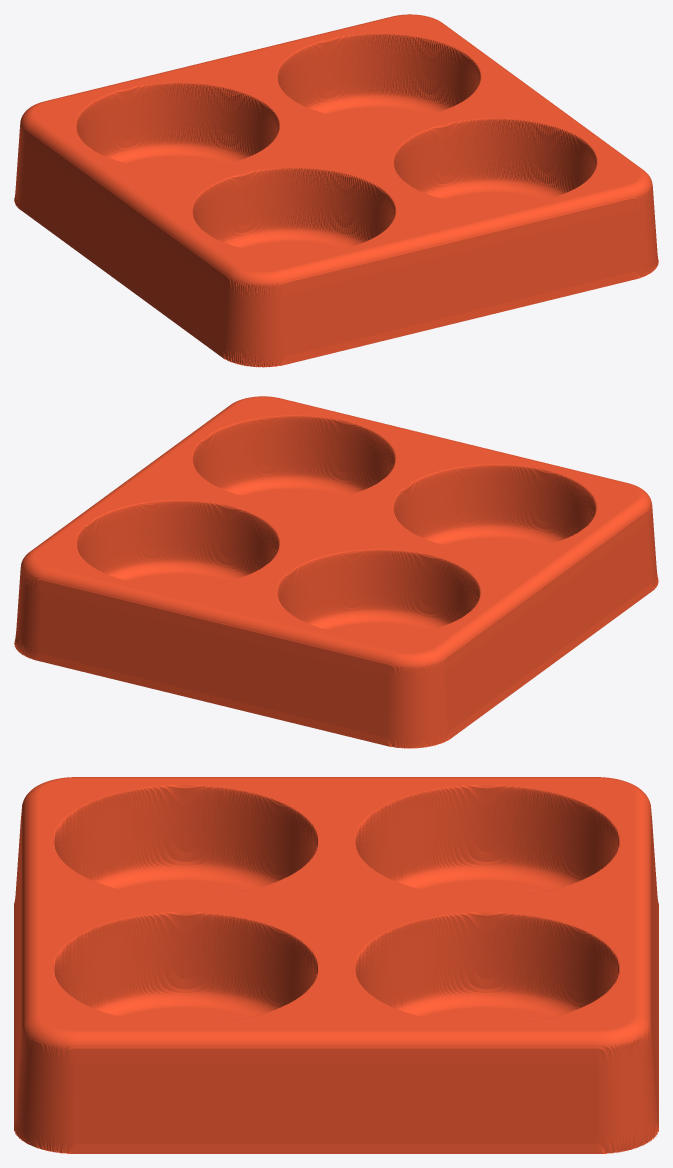
Rendered from mold.glb.
3 renders of one model, top to bottom at view 1: azimuth 30°, elevation 25°; view 2: azimuth 150°, elevation 25°; view 3: azimuth 270°, elevation 25°, orthographic. The views are drawn at different scales.
Visible parts, largest first — view 1: geometry_0; view 2: geometry_0; view 3: geometry_0.
Boxes of the visible parts, left/top/right/bottom form: geometry_0: left=14, top=14, right=658, bottom=367; geometry_0: left=14, top=396, right=658, bottom=748; geometry_0: left=14, top=777, right=658, bottom=1153.
Bounding box in the file's own units: 0.0942 × 0.0182 × 0.0942.
